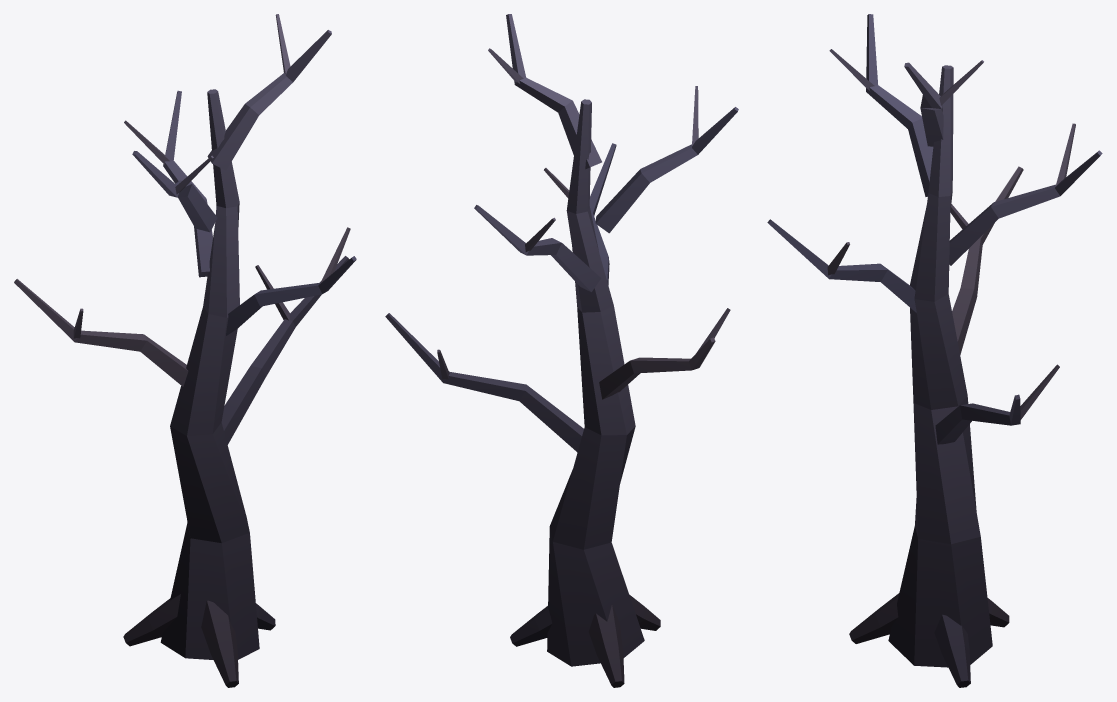
Rendered from PlayGround_Kit_Tree_Dead.fbx.
The picture shows the model from 3 angles, left to right: view 1: azimuth 30°, elevation 25°; view 2: azimuth 150°, elevation 25°; view 3: azimuth 270°, elevation 25°; orthographic projection. The views are drawn at different scales.
Parts seen in each view (by area): view 1: PlayGround_Kit_Tree_Dead; view 2: PlayGround_Kit_Tree_Dead; view 3: PlayGround_Kit_Tree_Dead.
Part boxes in pixels (<box>): PlayGround_Kit_Tree_Dead: <box>14,14,356,687</box>; PlayGround_Kit_Tree_Dead: <box>385,14,738,687</box>; PlayGround_Kit_Tree_Dead: <box>767,14,1102,687</box>.
Bounding box in the file's own units: 2.79 × 4.88 × 2.31.
